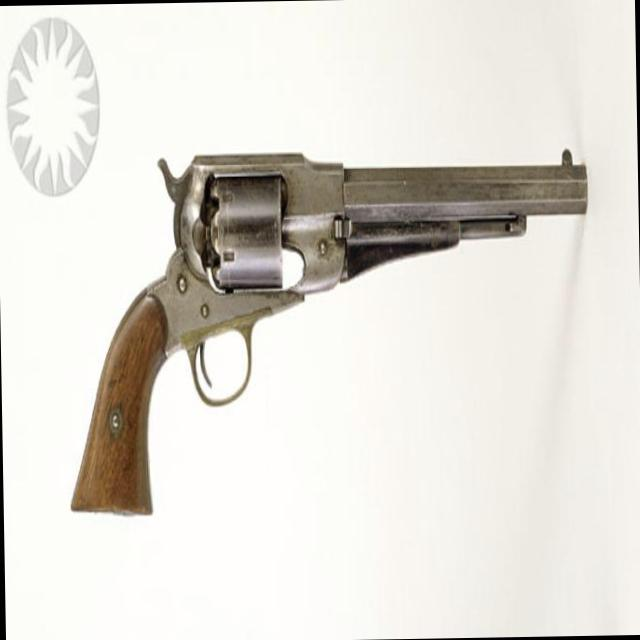Gun: (71, 153, 587, 512)
